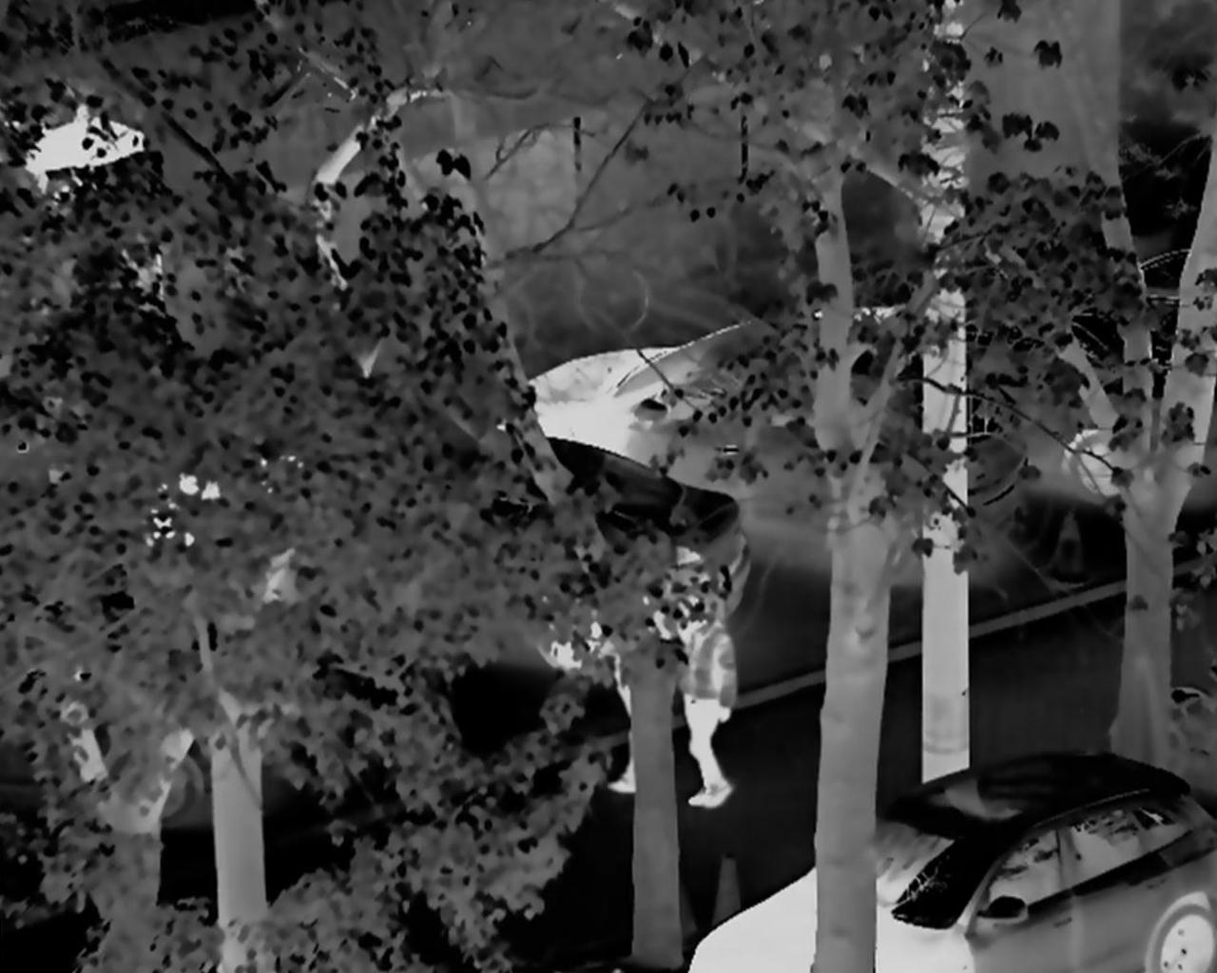person: (661, 592, 749, 812), (595, 600, 682, 795)
